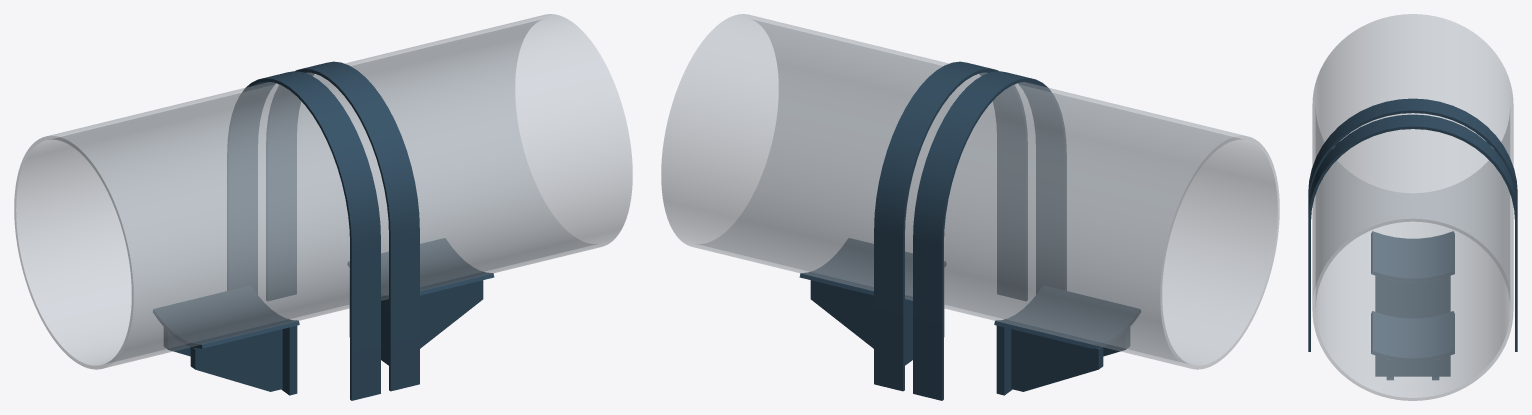
The model's file is TS-669.00.00-21-opora-dn426-ris2.glb.
3 renders of one model, left to right at view 1: azimuth 30°, elevation 25°; view 2: azimuth 150°, elevation 25°; view 3: azimuth 270°, elevation 25°, orthographic. The views are drawn at different scales.
Visible parts, largest first — view 1: truba, homut_9, homut_10, upor_8, upor_6, upor_4, upor_2, upor_5, upor_1; view 2: truba, homut_9, homut_10, upor_8, upor_7, upor_4, upor_3, upor_5, upor_1; view 3: truba, homut_9, upor_8, upor_4, homut_10, upor_5, upor_1.
Part boxes in pixels (x1,y1,x2,y2): truba: [14, 14, 632, 369]; homut_9: [266, 61, 419, 391]; homut_10: [227, 71, 380, 400]; upor_8: [153, 285, 299, 348]; upor_6: [190, 329, 282, 391]; upor_4: [347, 238, 494, 300]; upor_2: [420, 280, 483, 348]; upor_5: [281, 325, 297, 395]; upor_1: [349, 298, 388, 365]; truba: [661, 14, 1279, 369]; homut_9: [874, 61, 1027, 391]; homut_10: [913, 71, 1066, 400]; upor_8: [994, 285, 1140, 348]; upor_7: [1011, 329, 1103, 391]; upor_4: [799, 238, 946, 300]; upor_3: [810, 280, 873, 348]; upor_5: [996, 325, 1012, 395]; upor_1: [905, 298, 944, 365]; truba: [1312, 14, 1513, 400]; homut_9: [1308, 114, 1517, 351]; upor_8: [1371, 231, 1454, 281]; upor_4: [1371, 311, 1454, 361]; homut_10: [1308, 98, 1517, 204]; upor_5: [1375, 276, 1450, 318]; upor_1: [1375, 355, 1450, 376].
Bounding box in the file's own units: 1026 × 563 × 444.
